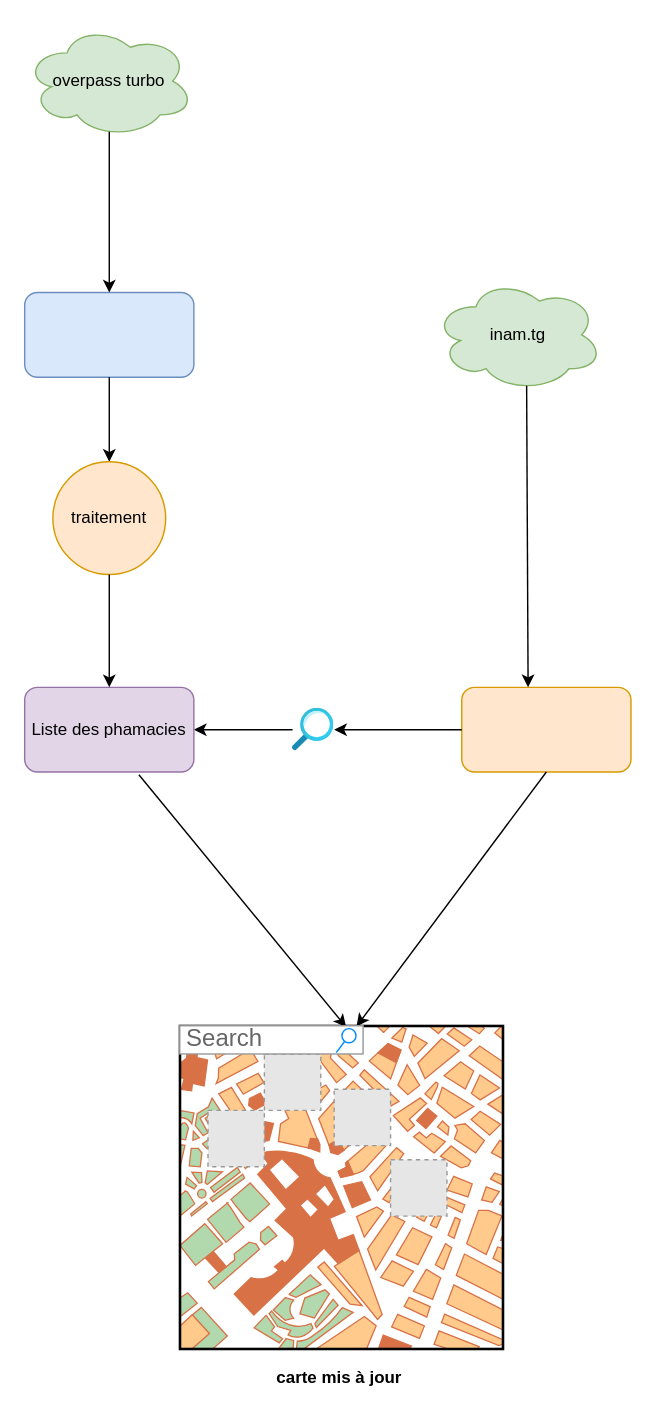
Image size: 656x1417. Some labels were removed from this diagram. Grey dashed boxes stand in for pictures. Each missing label, with the centre of its shape:
"Liste des pharmacies au TOGO" belongs at point 108,334.
"Liste des pharmacies de garde" belongs at point 545,729.
